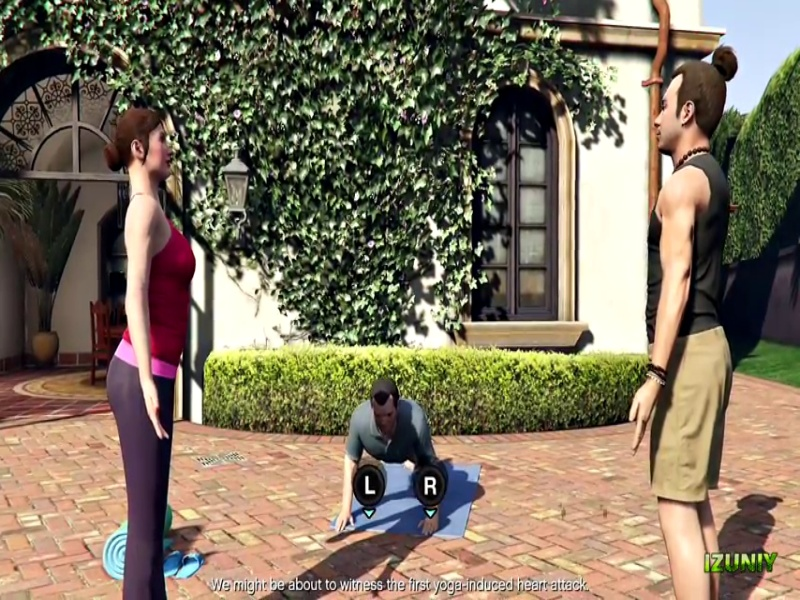licenseplate: (468, 338, 539, 382)
